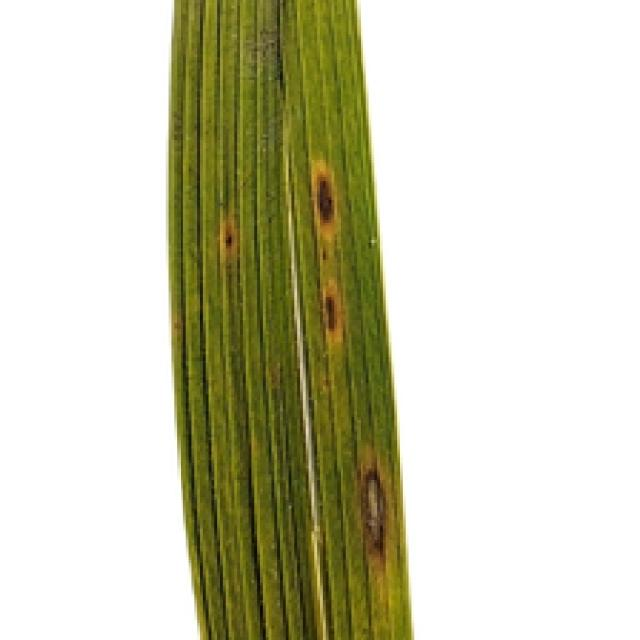Rice___Rice_Blast: (168, 0, 415, 637)
